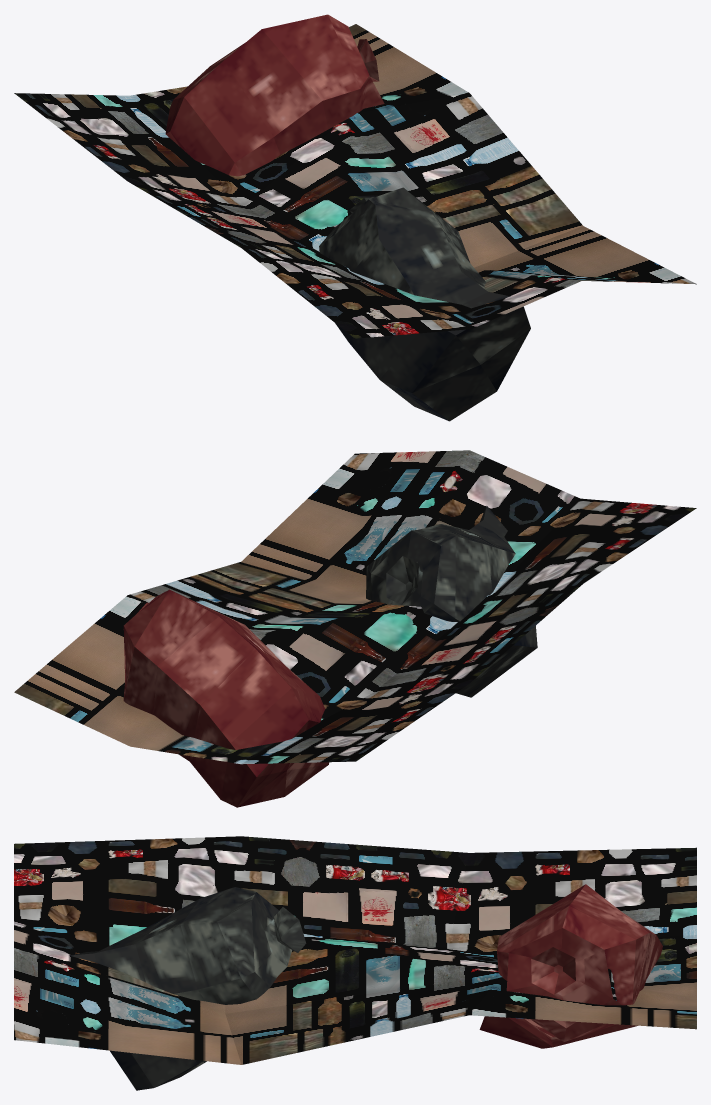
Rendered from Urban_DumpsterTrashpile1_Model.fbx.
The picture shows the model from 3 angles, top to bottom: view 1: azimuth 30°, elevation 25°; view 2: azimuth 150°, elevation 25°; view 3: azimuth 270°, elevation 25°; orthographic projection.
Parts seen in each view (by area): view 1: Urban_DumpsterTrashpile1_Mesh; view 2: Urban_DumpsterTrashpile1_Mesh; view 3: Urban_DumpsterTrashpile1_Mesh.
Part boxes in pixels (box(x1,y1,x2,y2)): Urban_DumpsterTrashpile1_Mesh: box(14, 14, 696, 421); Urban_DumpsterTrashpile1_Mesh: box(14, 450, 696, 807); Urban_DumpsterTrashpile1_Mesh: box(14, 836, 696, 1090).
Bounding box in the file's own units: 1.85 × 1.18 × 3.2.
